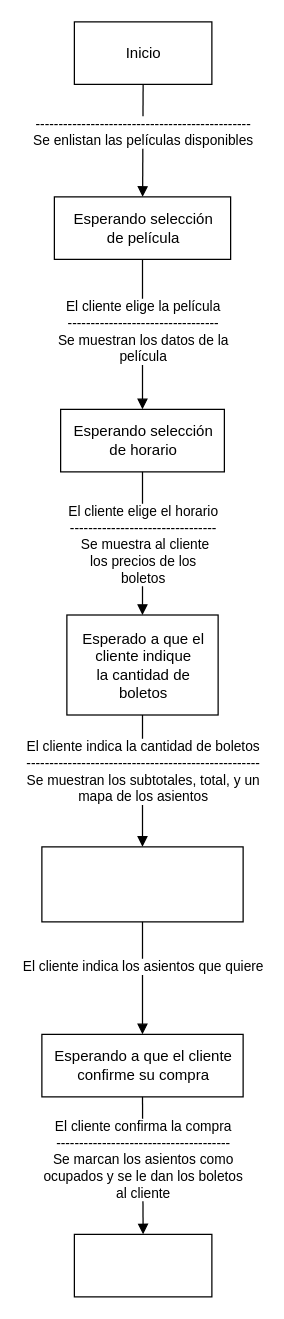
The diagram is 284 pixels wide and 1319 high, and some of its shapes have lost their labels. The shapes that lost their labels are listed below. From the top down, each one's box as (x1, y1, x2, y2) in pixels, then its label:
(41, 846, 243, 922): Esperando a que el cliente indique que asientos quiere
(73, 1233, 212, 1297): Fin
